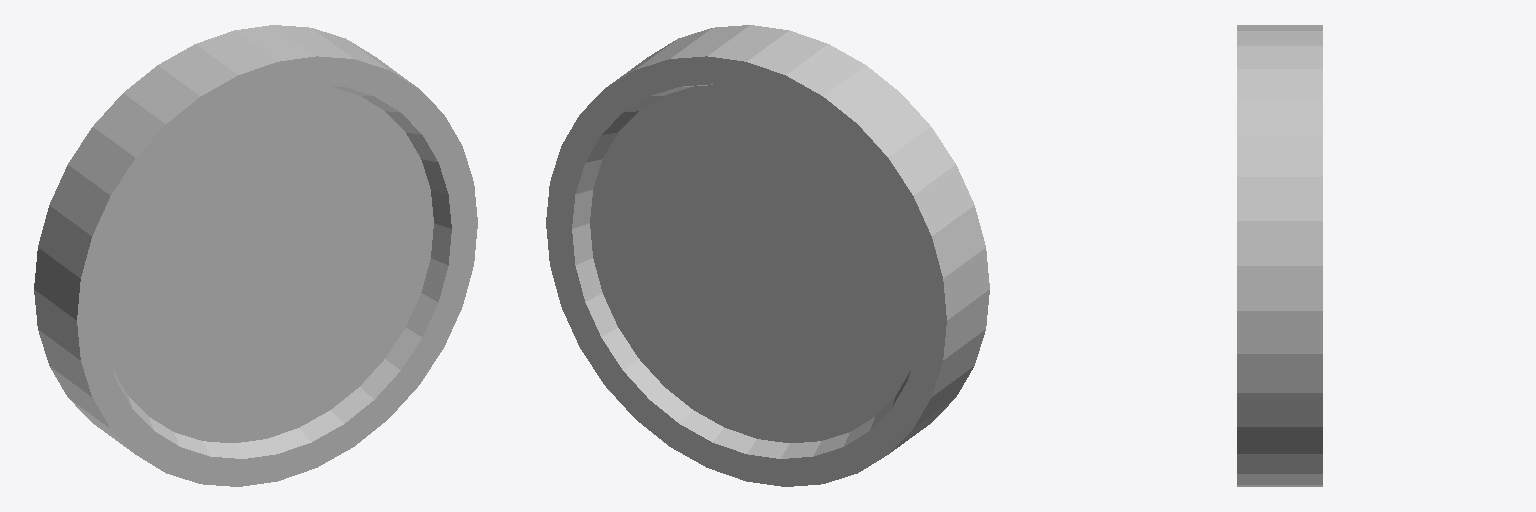
The model's file is coin.obj.
The picture shows the model from 3 angles: view 1: azimuth 30°, elevation 25°; view 2: azimuth 150°, elevation 25°; view 3: azimuth 270°, elevation 25°; orthographic projection.
Visible parts, largest first — view 1: Cylinder; view 2: Cylinder; view 3: Cylinder.
Boxes of the visible parts, x1,y1,x2,y2 form: Cylinder: [34, 25, 477, 486]; Cylinder: [546, 25, 989, 486]; Cylinder: [1237, 25, 1322, 486].
Size of the model in its own units: 0.1341 by 0.1341 by 0.0249.